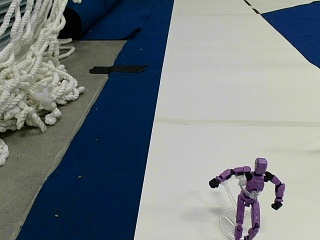pedestrian: (208, 158, 284, 235)
